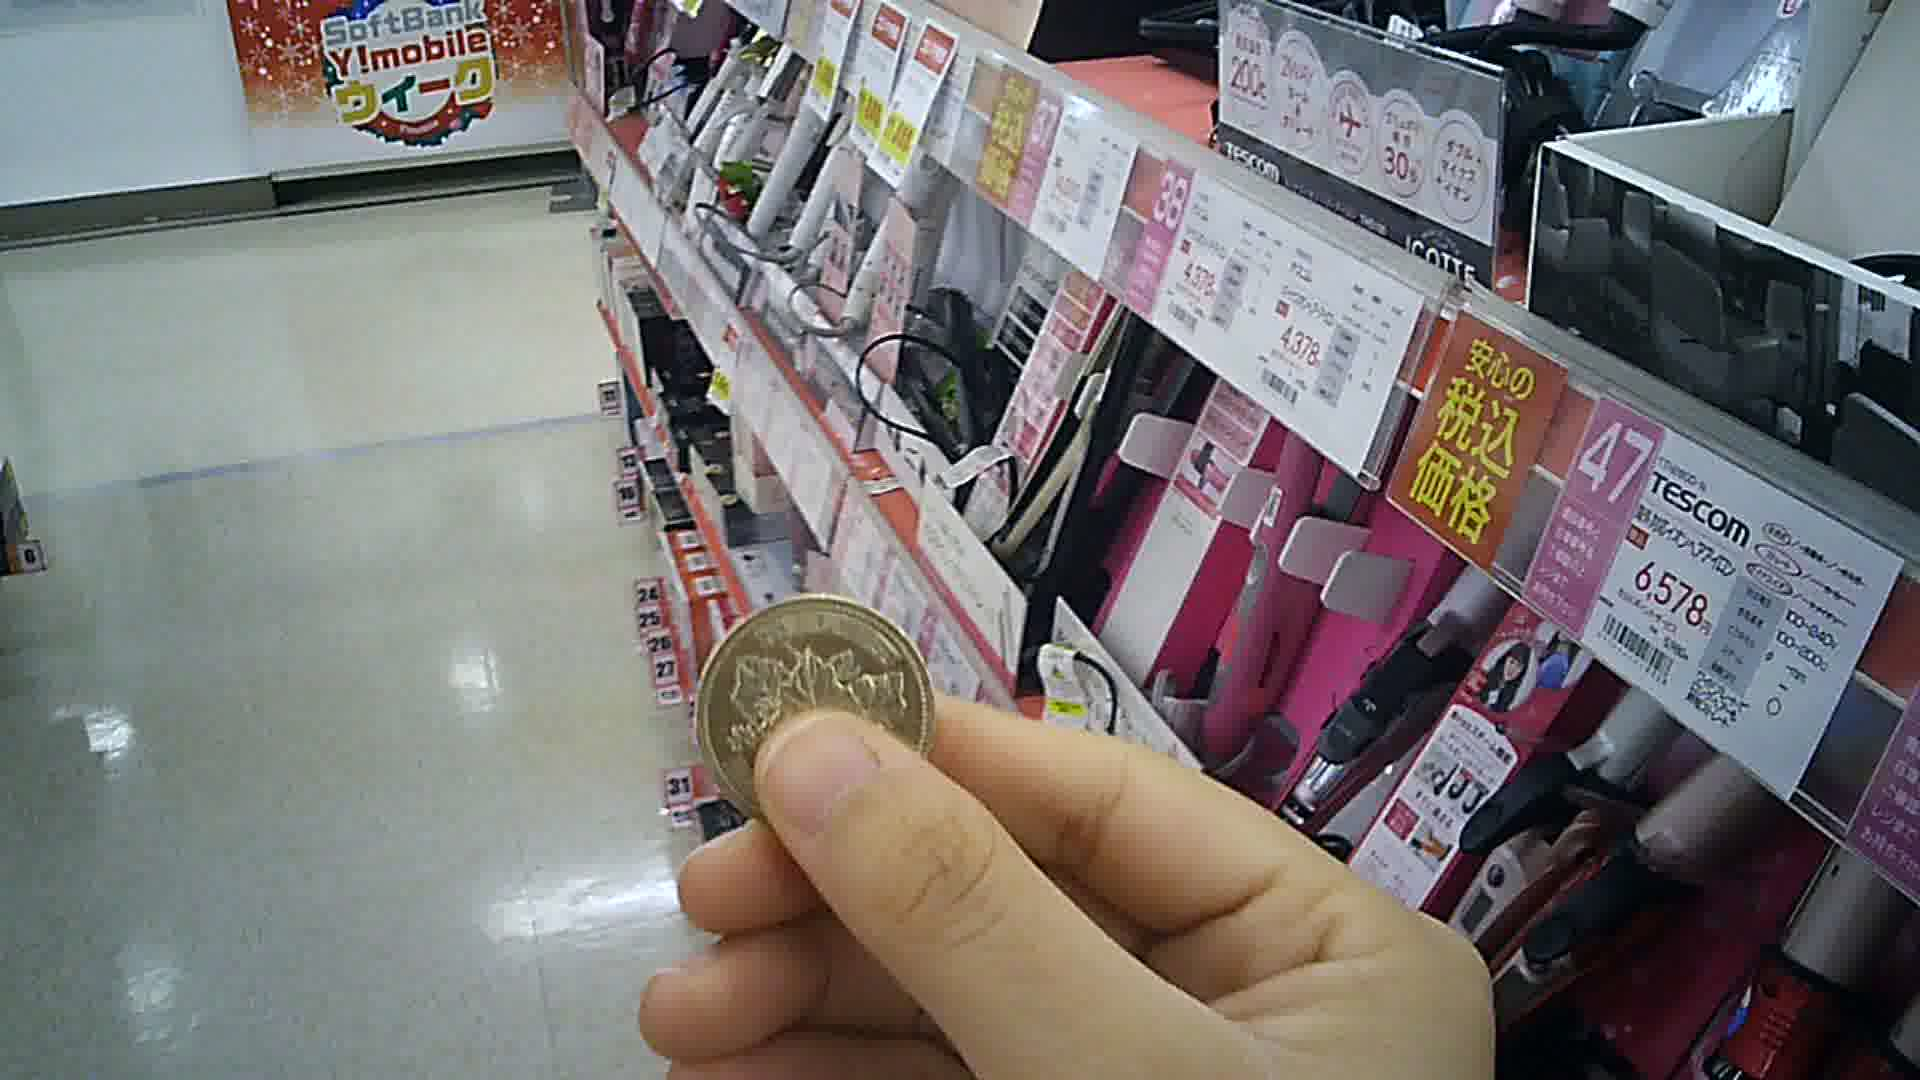500 Yen: (692, 591, 945, 831)
